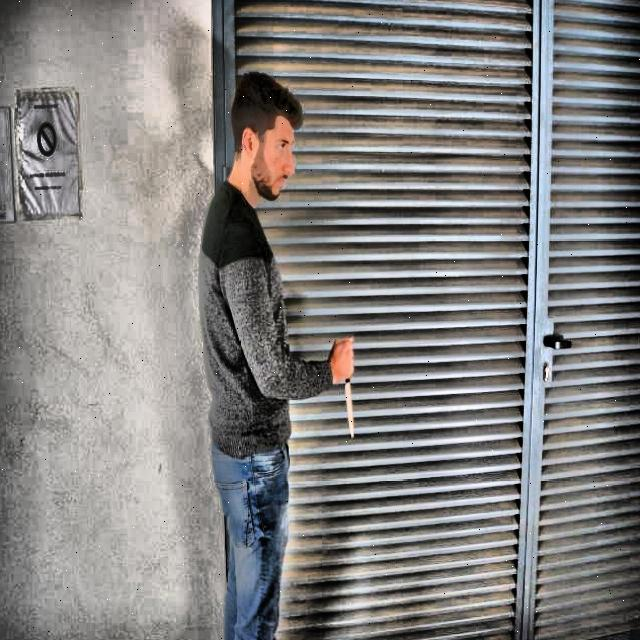knife: (345, 381, 354, 436)
